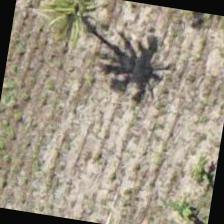Kelapa_Sawit: (30, 0, 128, 54)
